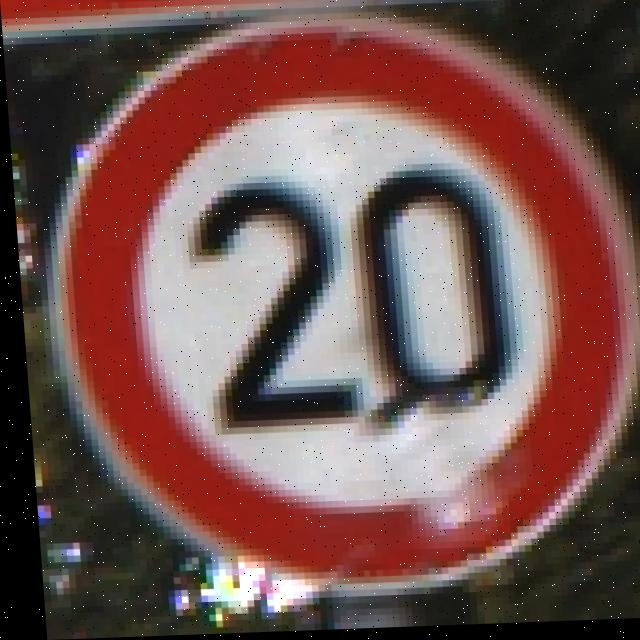speed_limit_20: (36, 0, 640, 598)
